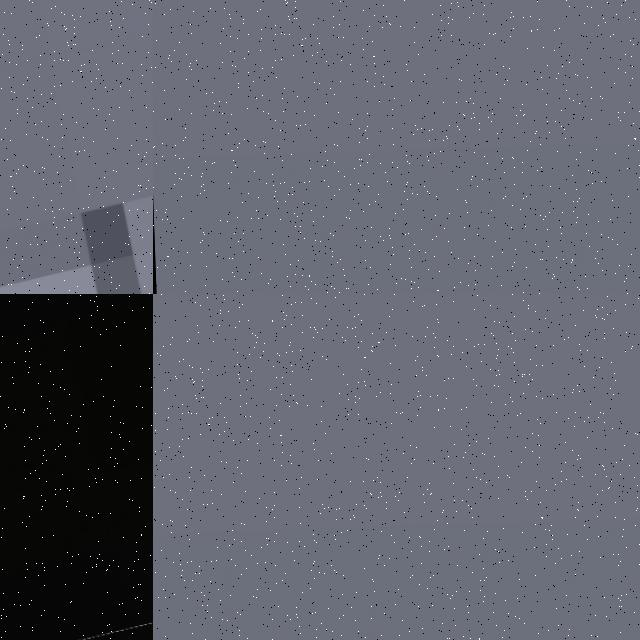0: (0, 0, 153, 294)
drone: (0, 294, 153, 640)
